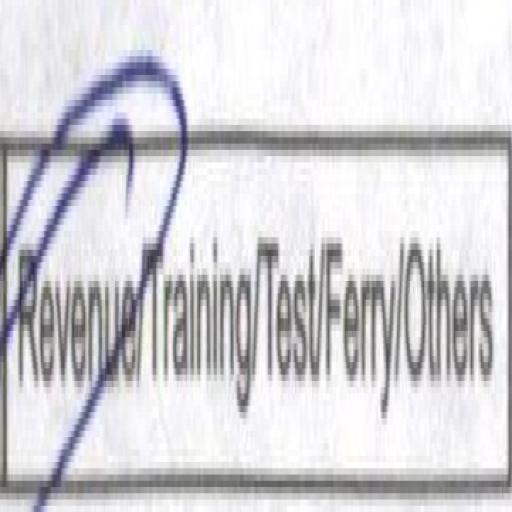check: (0, 54, 144, 512)
